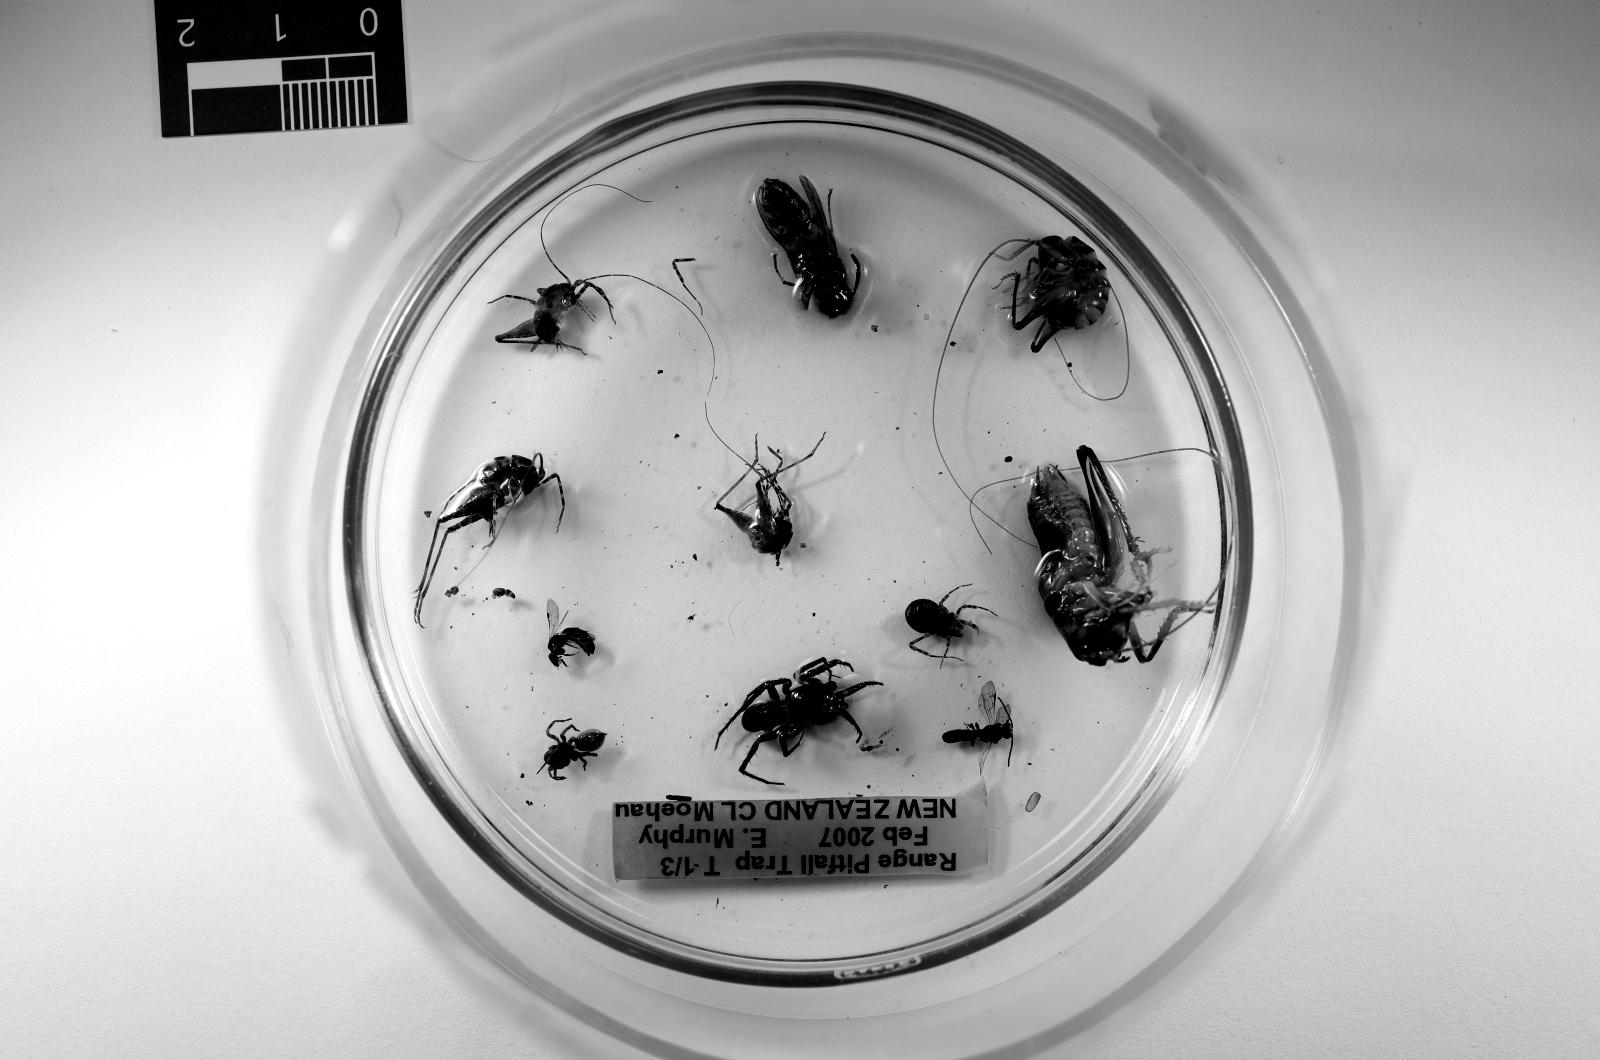araneae: (715, 658, 881, 783), (544, 720, 607, 780)
hymenoptera: (940, 680, 1012, 774), (546, 600, 597, 667)
opiliones: (903, 596, 991, 661)
orthoptera: (1028, 444, 1210, 665), (415, 453, 563, 625), (715, 438, 822, 565), (1000, 237, 1109, 354), (497, 277, 616, 351)
vespidae: (757, 177, 862, 317)
